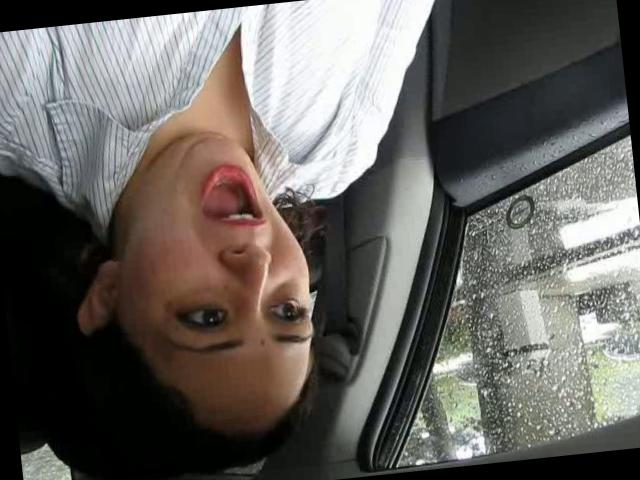eye_open: (166, 292, 242, 344), (262, 292, 312, 330)
face: (119, 119, 328, 408)
mouth_open: (190, 157, 273, 240)
